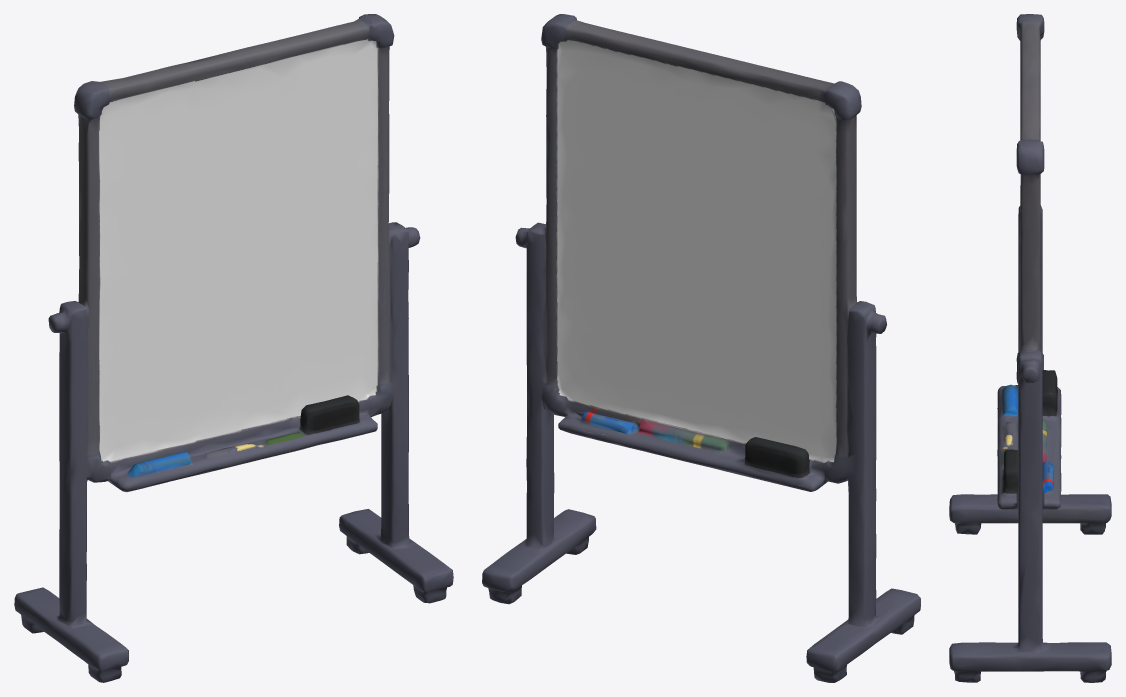
The model's file is holodeck_HugeWhiteboard.glb.
The picture shows the model from 3 angles, left to right: view 1: azimuth 30°, elevation 25°; view 2: azimuth 150°, elevation 25°; view 3: azimuth 270°, elevation 25°; orthographic projection. The views are drawn at different scales.
Parts seen in each view (by area): view 1: world; view 2: world; view 3: world.
Part boxes in pixels (<box>): world: <box>14,14,453,682</box>; world: <box>482,14,920,682</box>; world: <box>949,14,1111,682</box>.
Size of the model in its own units: 0.6813 by 1 by 0.2806.
1 material, 1 textured.
